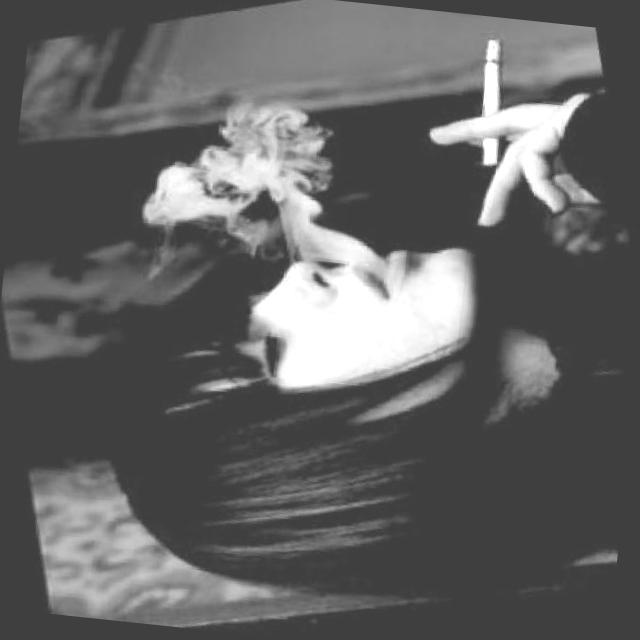smoke: (452, 30, 540, 173)
